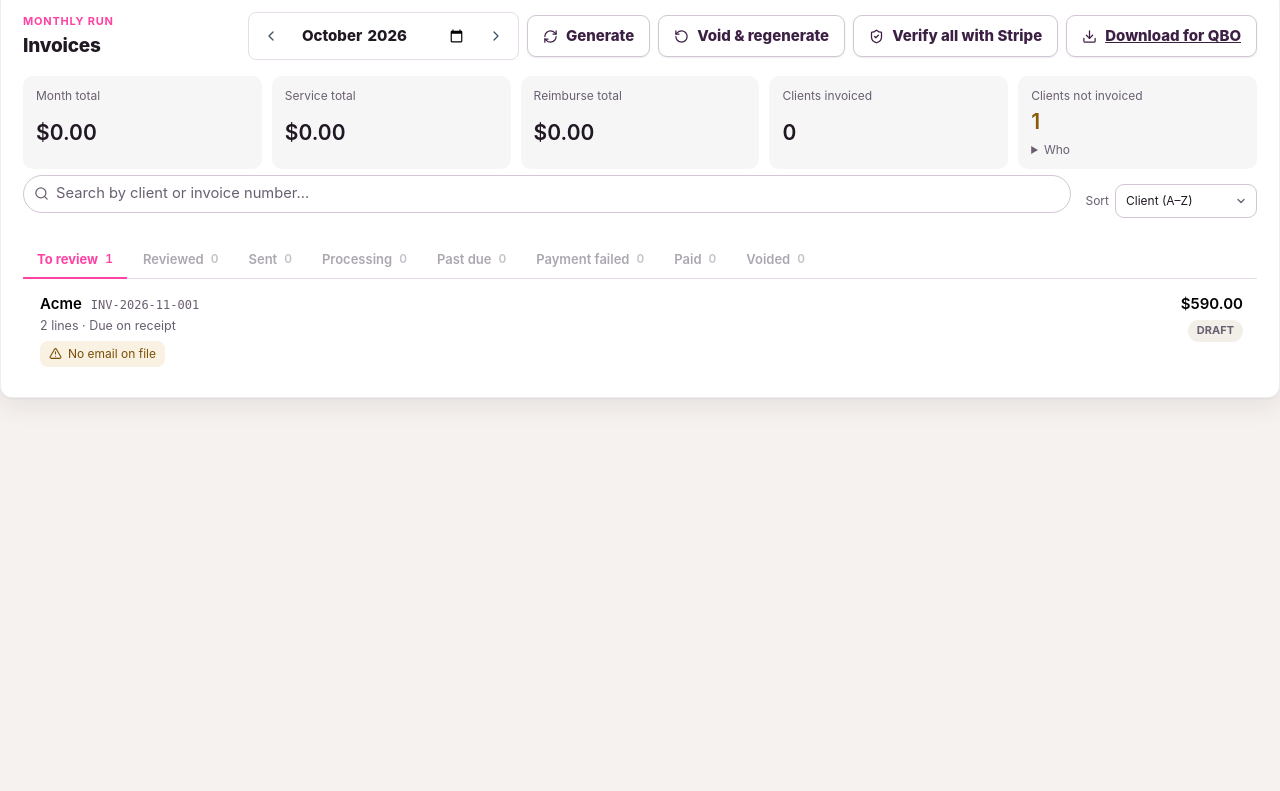
Test: InvoiceMonthRun — confirming the covered dates › explains a month billed behind one already sent
Click the text "INV-2026-11-001".
click(145, 306)  # box [91,297,199,315]
(page scrolled)
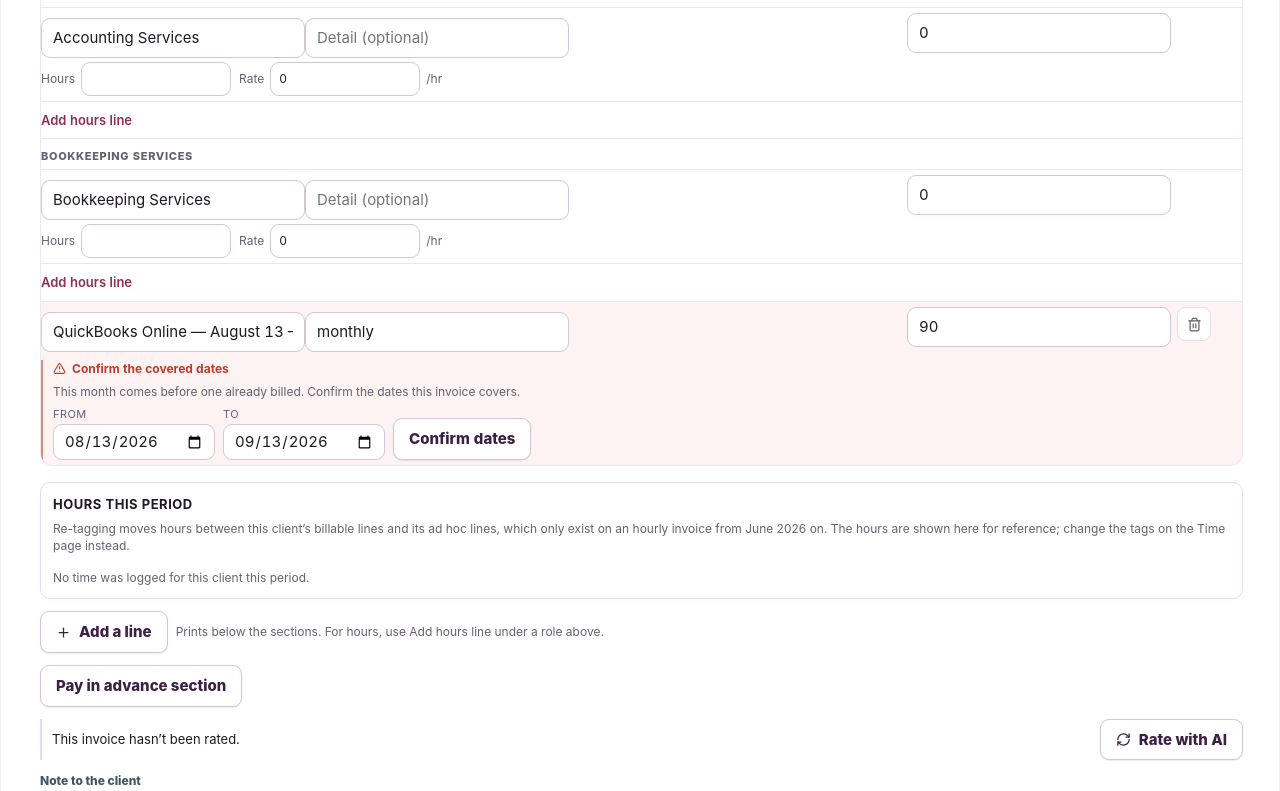
expect the text "This month comes before one already billed. Confirm the dates this invoice covers." is shown: met, box [53,384,520,399]
